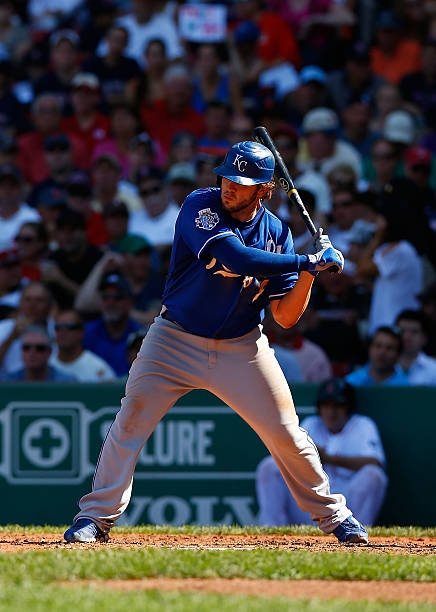bita: (254, 125, 329, 250)
